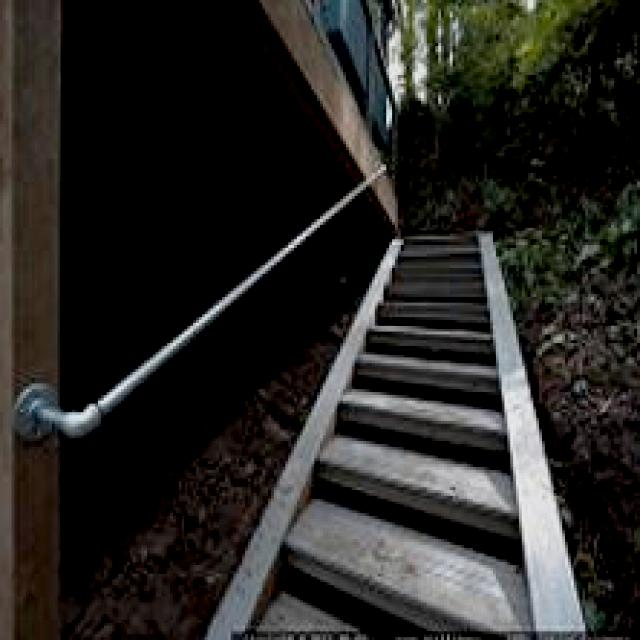upstair: (301, 290, 554, 636)
